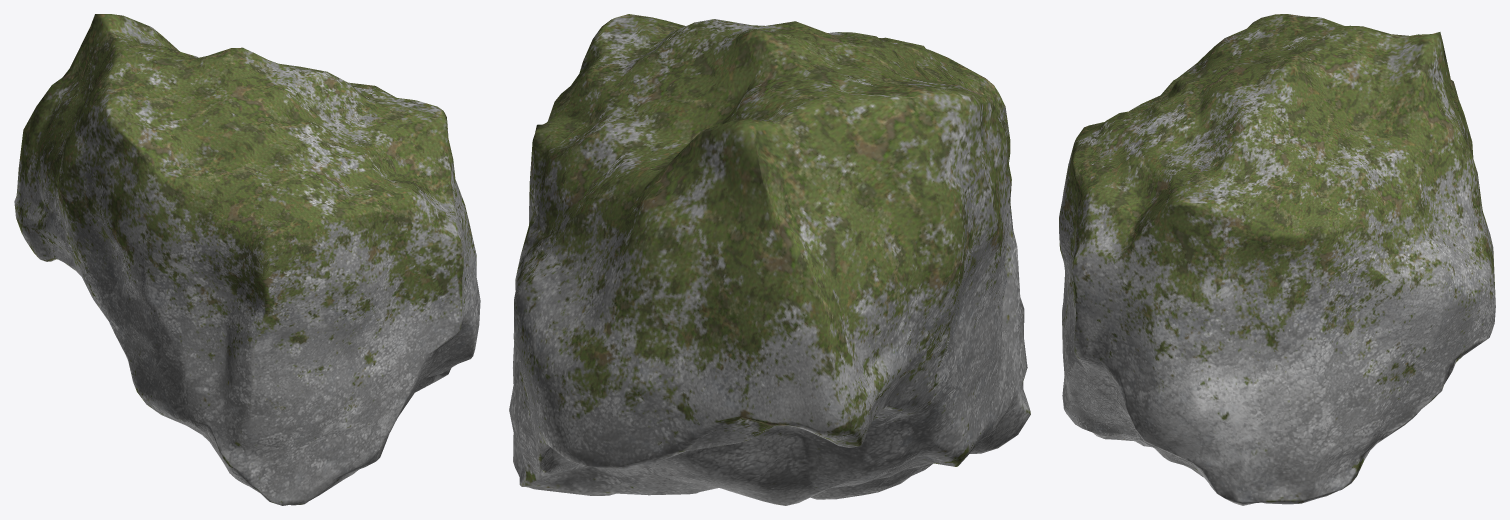
Rendered from quarry_rock_01.glb.
The picture shows the model from 3 angles, left to right: view 1: azimuth 30°, elevation 25°; view 2: azimuth 150°, elevation 25°; view 3: azimuth 270°, elevation 25°; orthographic projection. The views are drawn at different scales.
Visible parts, largest first — view 1: QuarryRock04_QuarryRock04Shader_0; view 2: QuarryRock04_QuarryRock04Shader_0; view 3: QuarryRock04_QuarryRock04Shader_0.
Boxes of the visible parts, left/top/right/bottom form: QuarryRock04_QuarryRock04Shader_0: left=14, top=14, right=480, bottom=505; QuarryRock04_QuarryRock04Shader_0: left=509, top=14, right=1030, bottom=505; QuarryRock04_QuarryRock04Shader_0: left=1059, top=14, right=1495, bottom=505.
Size of the model in its own units: 1.84 by 1.93 by 2.
1 material, 1 textured.
